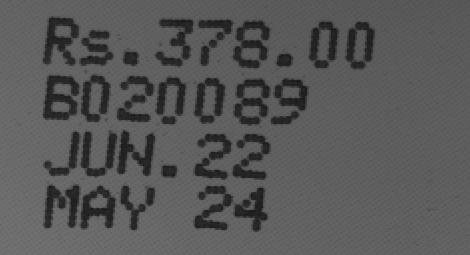.: (117, 41, 147, 70), (273, 45, 300, 71), (155, 161, 185, 181)
0: (305, 19, 342, 72), (341, 18, 378, 71), (78, 73, 115, 126), (154, 75, 191, 128), (192, 75, 229, 128)
2: (113, 74, 158, 125), (190, 131, 235, 182), (230, 132, 275, 183), (191, 182, 236, 233)
3: (153, 17, 196, 70)
4: (230, 183, 273, 234)
7: (193, 18, 235, 70)
8: (231, 18, 273, 71), (231, 76, 273, 128)
9: (268, 75, 312, 128)
A: (78, 183, 118, 232)
B: (38, 73, 84, 124)
J: (39, 129, 82, 178)
M: (38, 181, 82, 232)
N: (115, 129, 157, 180)
R: (40, 14, 83, 69)
S: (76, 28, 118, 69)
U: (77, 128, 119, 178)
Y: (116, 181, 159, 233)
